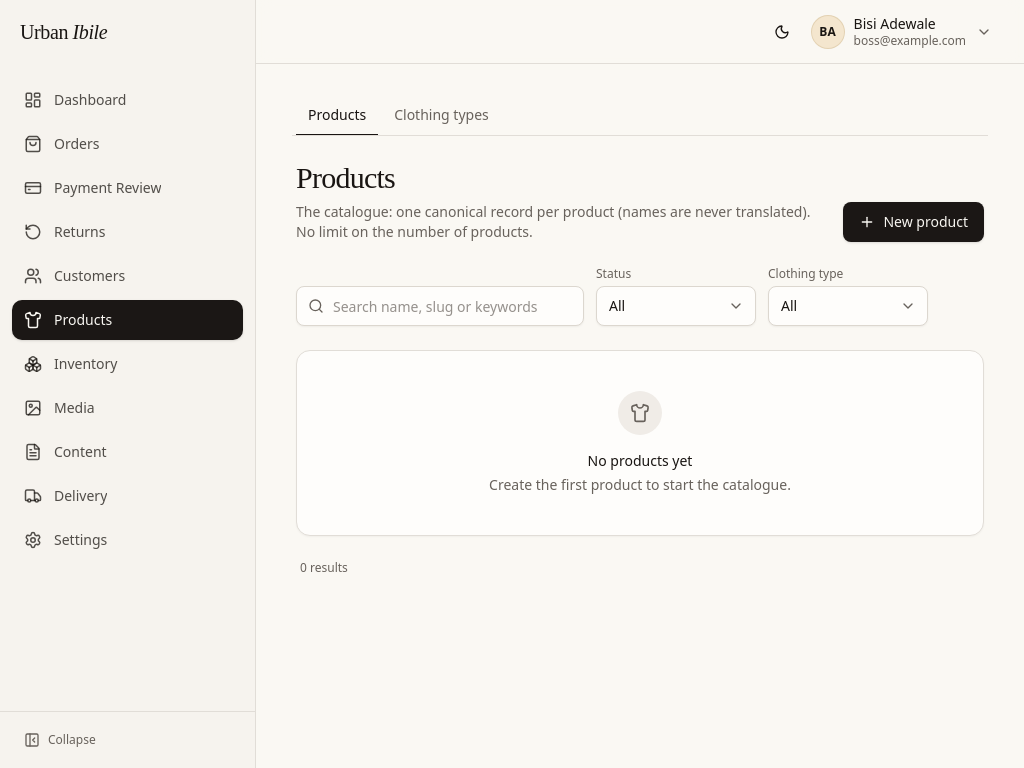
Scenario: the same impact text in every Delete place › product form: Choose existing -> Delete shows what will be detached
Step 1. Click the button "New product" → (914, 222), box [844, 202, 984, 242]
(page scrolled)
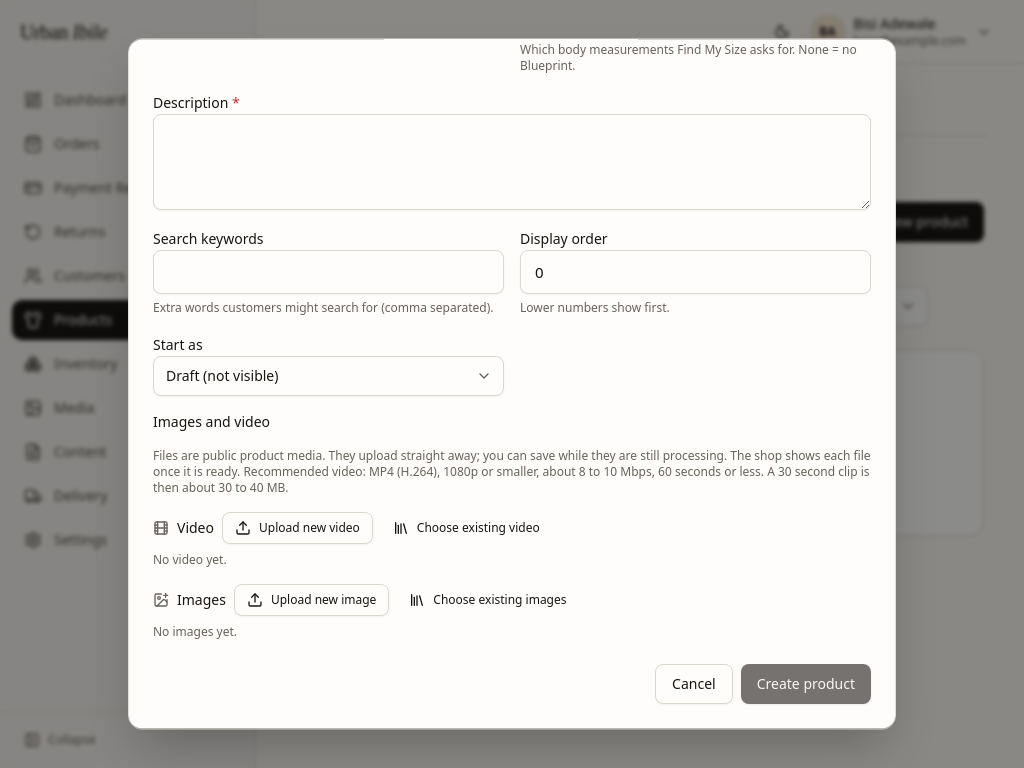
Step 2. Click the button "Choose existing images" → (488, 600), box [397, 584, 578, 616]
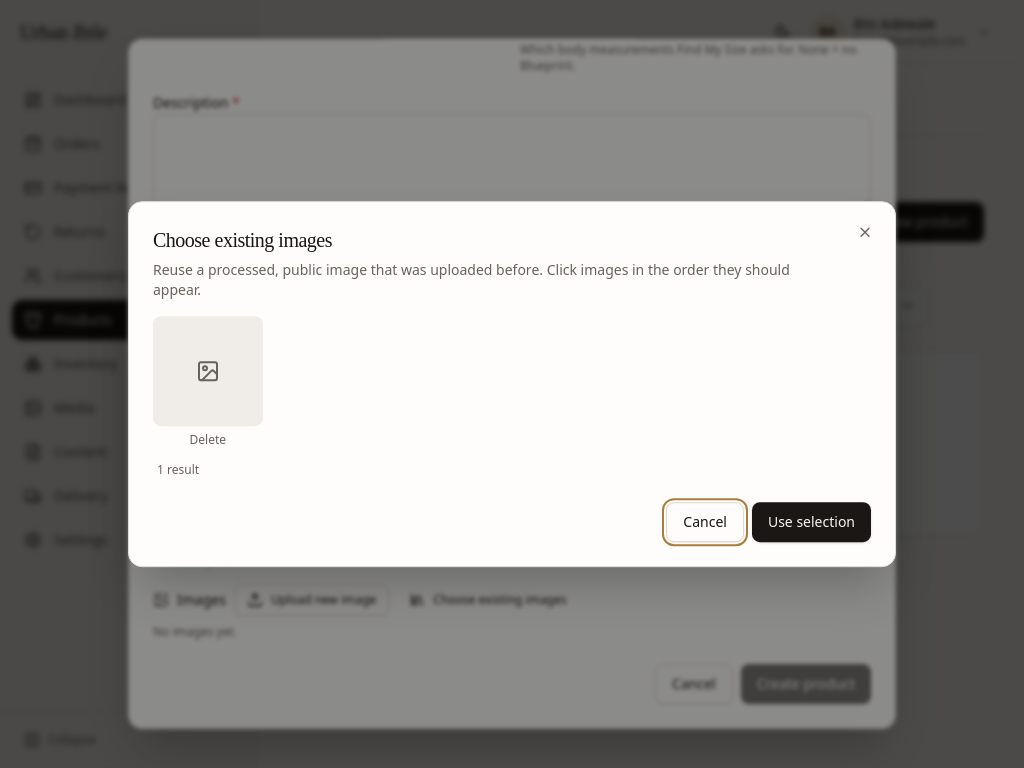
Step 3. Click the button with aria-label "Delete front.jpg" → (208, 440), box [153, 432, 263, 448]
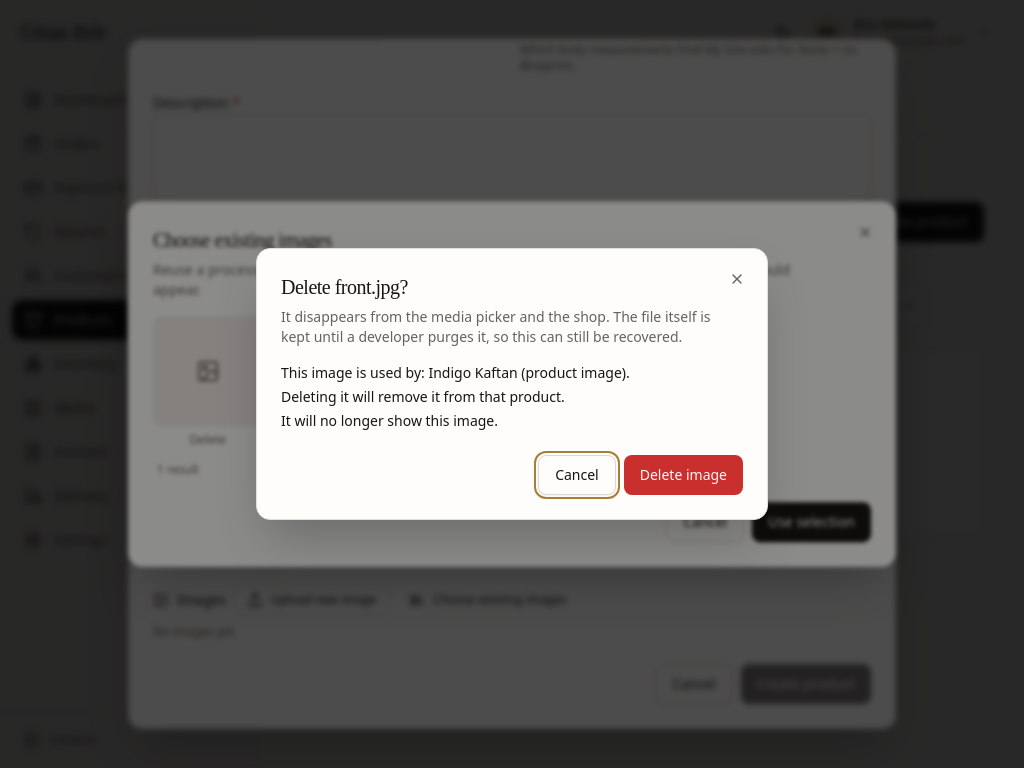
Expected: the list item "This image is used by: Indigo Kaftan (product image)." is shown, [281, 363, 630, 382]
Expected: the dialog "Delete front.jpg?" shows "It will no longer show this image.", [281, 411, 498, 430]
